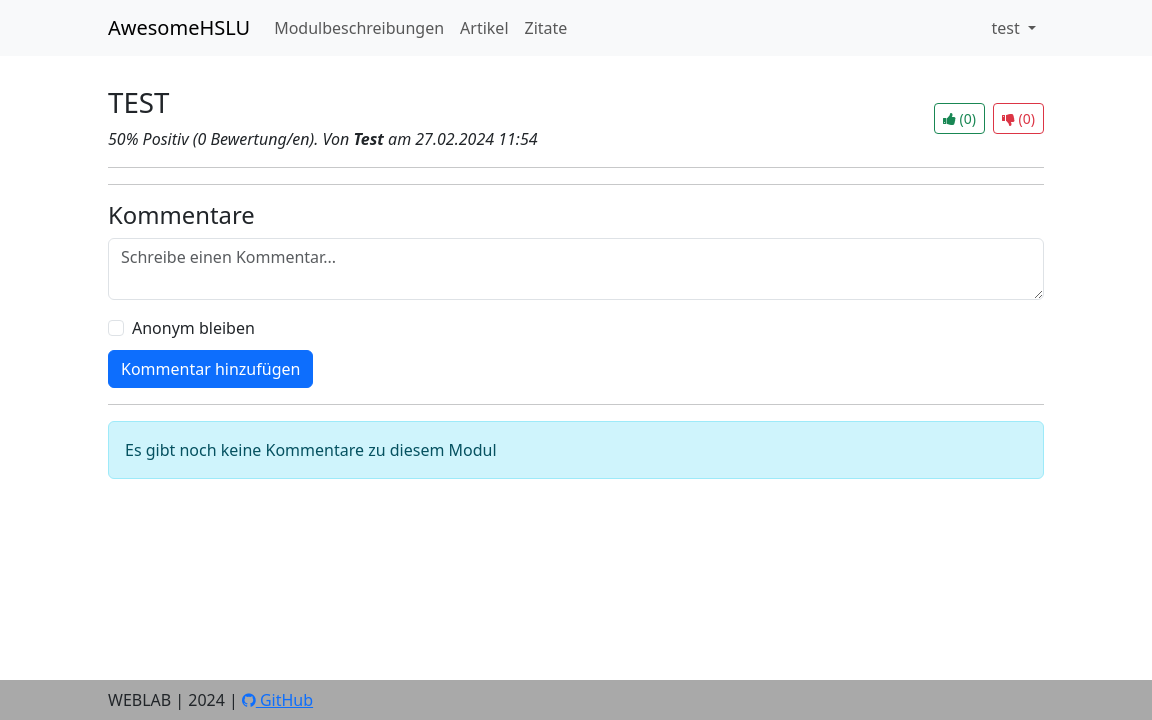
Scenario: Comment on a module › Should comment on a module
The width and height of the screenshot is (1152, 720).
Step 1. Type "This is a test comment" into the text box with placeholder "Schreibe einen Kommentar..." → (576, 269), box 108,238 -> 1044,300
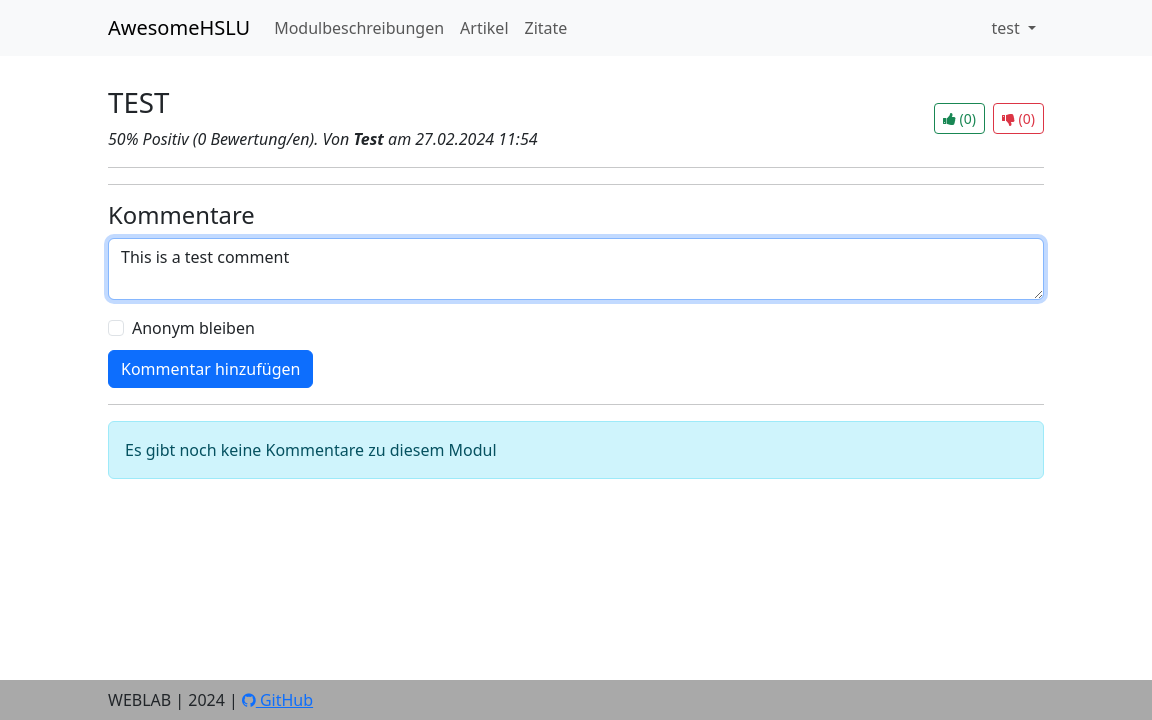
Step 2. Click the button "Kommentar hinzufügen" → (211, 369), box 108,350 -> 313,388
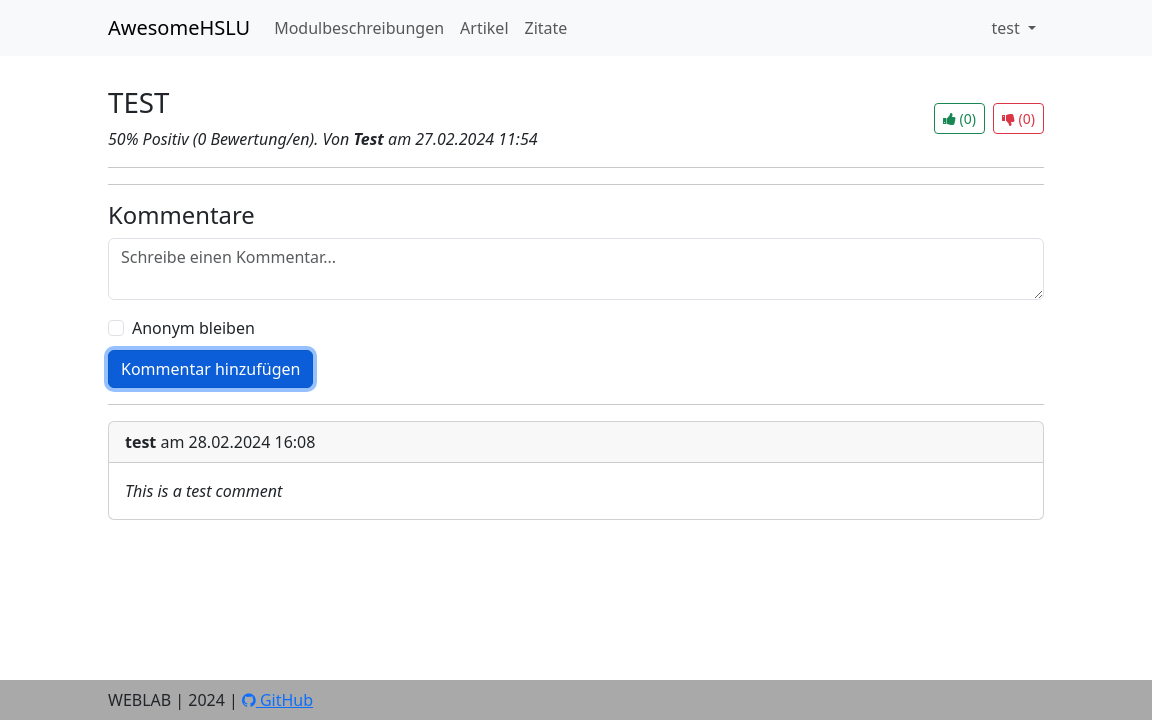
Now the text "This is a test comment" is shown, box 125,480 -> 282,502
